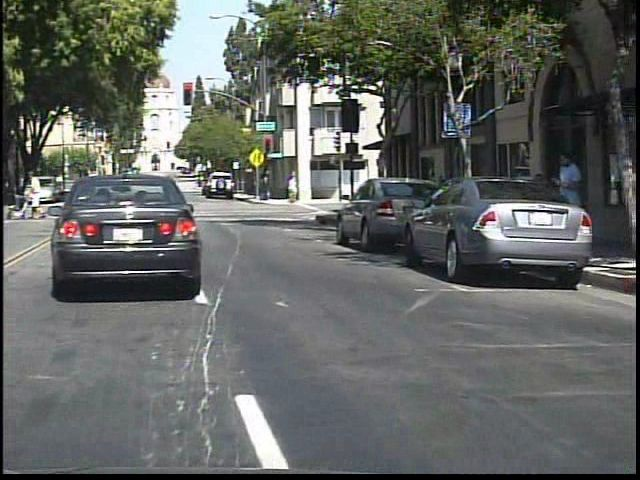person: (548, 143, 584, 265), (34, 172, 55, 221), (2, 175, 18, 210), (36, 174, 37, 208)
